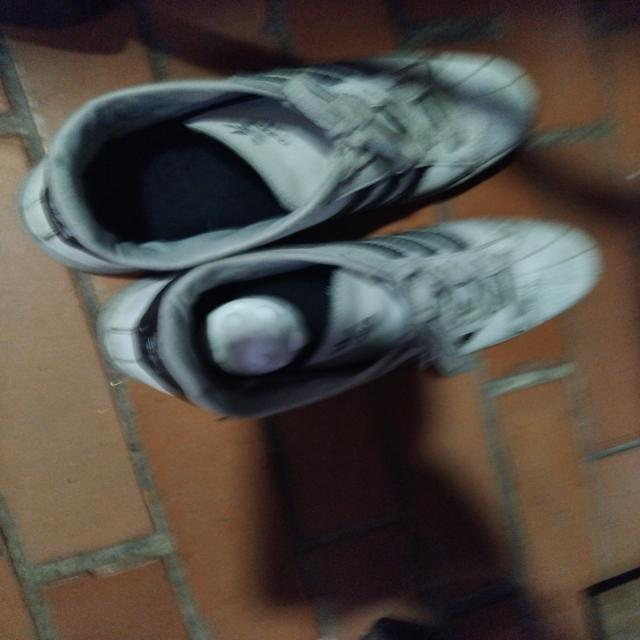Hongo: (196, 296, 313, 378)
